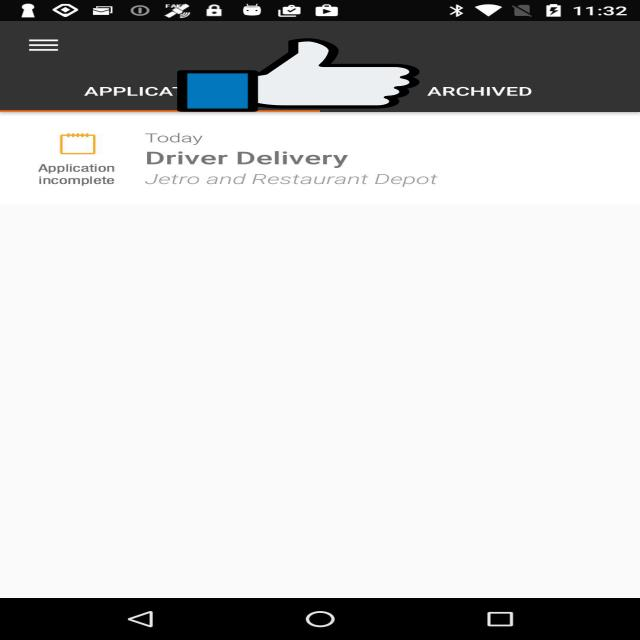privacy zuckering: (177, 37, 420, 113)
